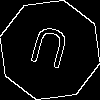U: (25, 25, 71, 78)
